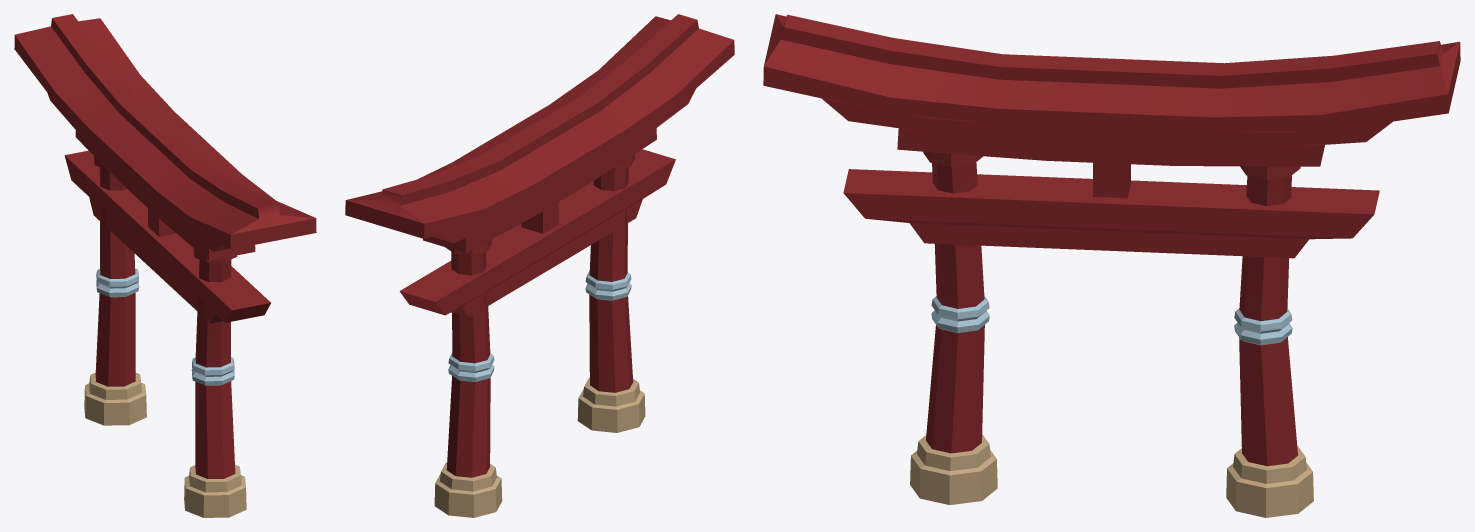
Rendered from arch.glb.
The picture shows the model from 3 angles, left to right: view 1: azimuth 30°, elevation 25°; view 2: azimuth 150°, elevation 25°; view 3: azimuth 270°, elevation 25°; orthographic projection. The views are drawn at different scales.
Visible parts, largest first — view 1: SM_Env_Archway_01; view 2: SM_Env_Archway_01; view 3: SM_Env_Archway_01.
Boxes of the visible parts, left/top/right/bottom form: SM_Env_Archway_01: left=14, top=14, right=316, bottom=517; SM_Env_Archway_01: left=345, top=14, right=734, bottom=517; SM_Env_Archway_01: left=763, top=14, right=1460, bottom=517.
Bounding box in the file's own units: 1.79 × 4.79 × 6.6.
1 material, 1 textured.
